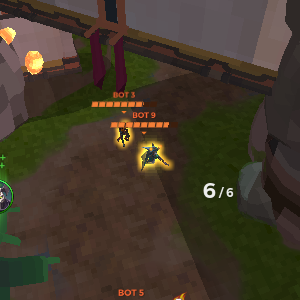model: (140, 141, 162, 170), (115, 117, 131, 148)
